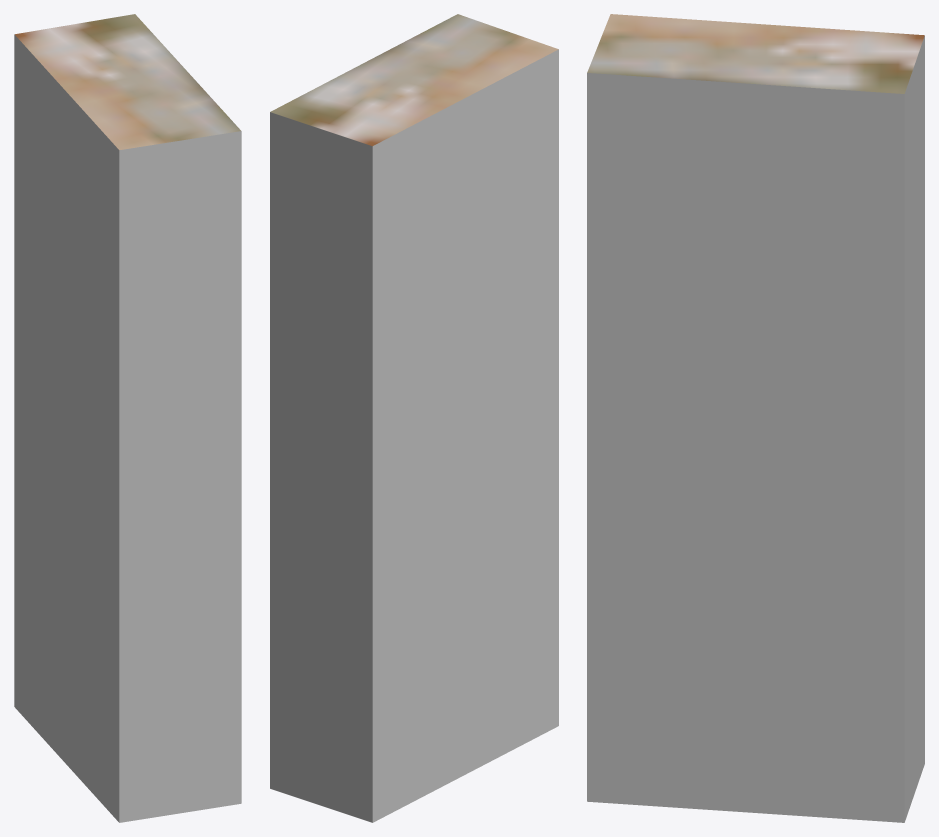
The model's file is DEBW_0010007THY7.gltf.
3 views of the same model, side by side, from view 1: azimuth 30°, elevation 25°; view 2: azimuth 150°, elevation 25°; view 3: azimuth 270°, elevation 25° (orthographic). The views are drawn at different scales.
Parts seen in each view (by area): view 1: Z_UP; view 2: Z_UP; view 3: Z_UP.
Boxes of the visible parts, x1,y1,x2,y2 form: Z_UP: [14, 14, 241, 822]; Z_UP: [270, 14, 558, 822]; Z_UP: [587, 14, 924, 822].
Size of the model in its own units: 2.34 by 9.93 by 4.17.
2 materials, 1 textured.
